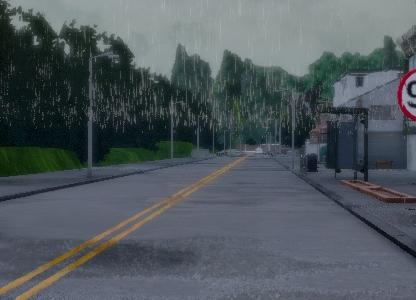Speed_90: (398, 64, 416, 125)
